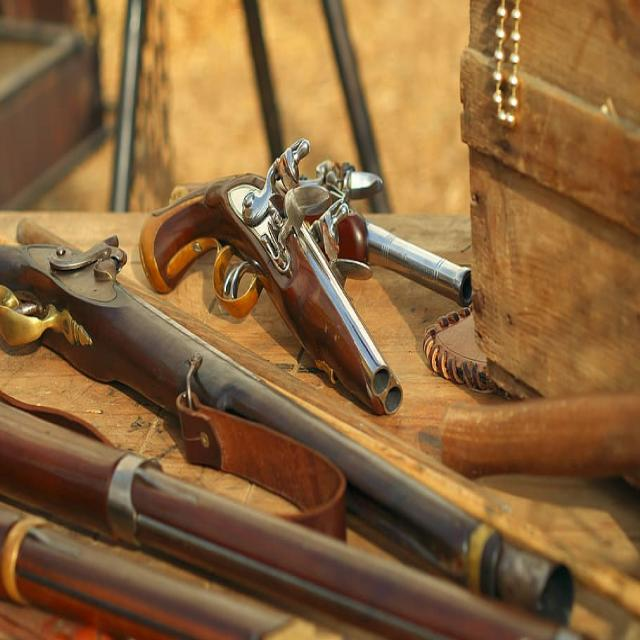gun: (138, 142, 406, 412)
